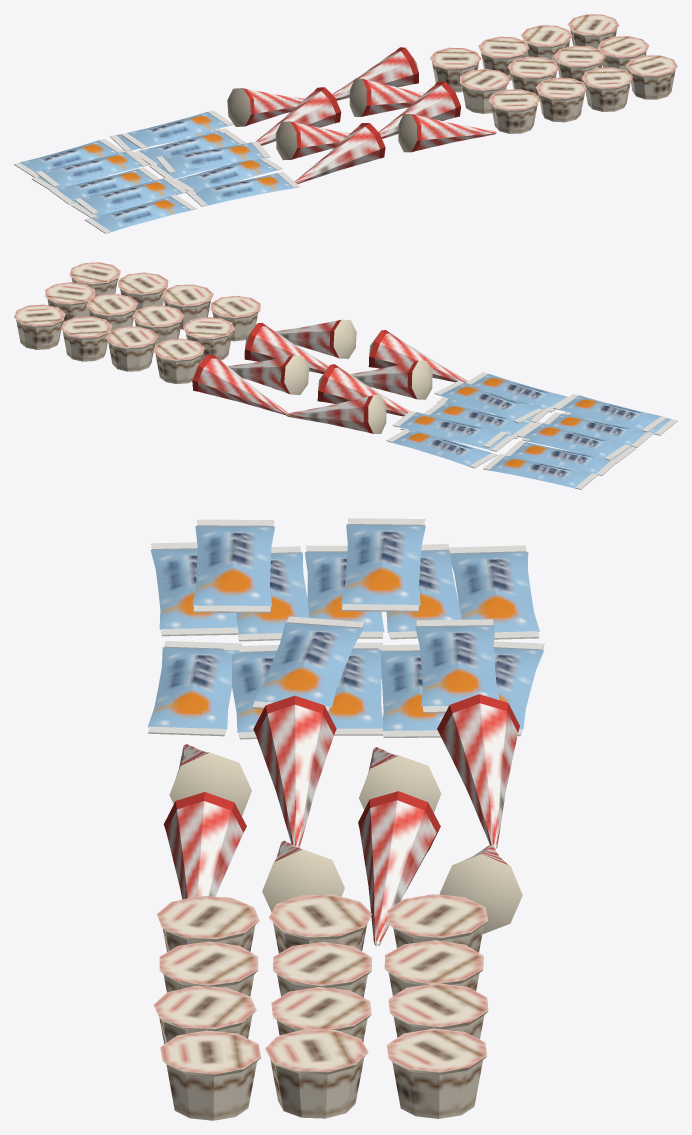
Rendered from SC_Prod_Row_IceCream.gltf.
The picture shows the model from 3 angles, top to bottom: view 1: azimuth 30°, elevation 25°; view 2: azimuth 150°, elevation 25°; view 3: azimuth 270°, elevation 25°; orthographic projection. The views are drawn at different scales.
Parts seen in each view (by area): view 1: SC_Prod_Row_IceCream; view 2: SC_Prod_Row_IceCream; view 3: SC_Prod_Row_IceCream.
Boxes of the visible parts, x1=… form: SC_Prod_Row_IceCream: x1=14, y1=14, x2=677, y2=233; SC_Prod_Row_IceCream: x1=14, y1=262, x2=677, y2=489; SC_Prod_Row_IceCream: x1=148, y1=518, x2=544, y2=1120.
Size of the model in its own units: 1.19 by 0.074 by 0.3474.
2 materials, 2 textured.
